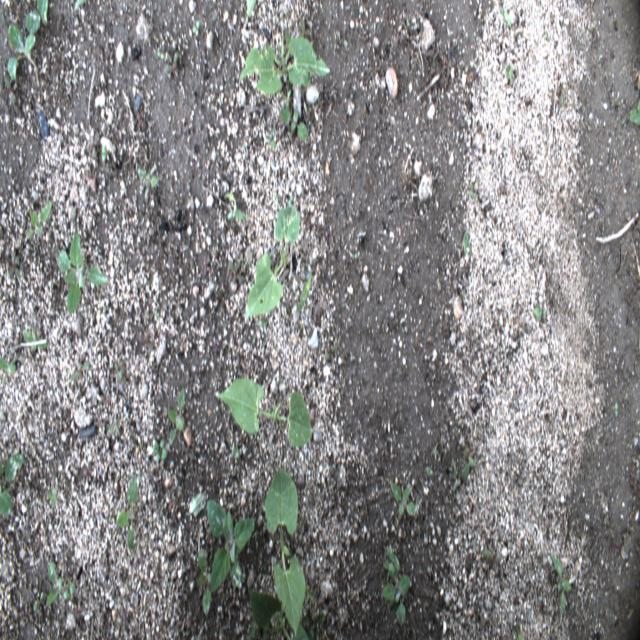crop: (265, 466, 306, 636), (215, 377, 312, 448), (244, 207, 300, 326), (238, 36, 330, 94), (248, 589, 309, 639), (297, 270, 312, 312)
weed: (206, 498, 255, 592), (57, 232, 109, 313), (7, 10, 41, 86), (380, 552, 410, 625), (116, 474, 139, 549), (0, 454, 24, 516), (198, 549, 218, 617), (26, 199, 52, 249), (552, 554, 572, 616), (167, 386, 185, 447), (390, 482, 418, 517), (280, 108, 308, 140), (137, 167, 159, 200), (225, 194, 247, 227), (46, 561, 62, 605), (302, 606, 324, 638), (0, 354, 18, 389), (22, 328, 47, 352), (3, 70, 18, 104), (163, 48, 180, 78), (70, 359, 92, 382), (461, 449, 476, 481), (86, 127, 100, 159), (8, 250, 22, 280), (228, 259, 244, 285), (152, 438, 168, 462), (628, 97, 640, 126), (383, 548, 396, 574), (462, 447, 477, 469), (484, 548, 502, 566), (324, 341, 338, 364), (36, 0, 48, 26), (304, 582, 316, 608), (298, 19, 309, 45), (182, 443, 196, 463), (604, 515, 615, 540), (451, 459, 459, 493), (46, 486, 58, 507), (282, 88, 292, 113), (63, 580, 76, 599), (501, 6, 512, 28), (533, 307, 547, 324), (243, 621, 256, 639), (119, 365, 130, 386), (34, 592, 44, 613), (554, 86, 564, 107), (268, 123, 276, 149), (468, 180, 477, 203), (113, 360, 122, 381), (286, 32, 295, 53), (514, 624, 524, 640), (247, 0, 256, 17), (504, 66, 513, 82), (101, 145, 108, 164), (73, 0, 84, 12), (231, 444, 240, 458), (457, 288, 466, 302), (272, 190, 280, 204), (385, 7, 392, 23), (156, 49, 164, 62), (193, 20, 200, 34), (425, 465, 433, 477), (258, 319, 267, 329), (614, 400, 618, 417), (301, 518, 305, 534), (288, 194, 293, 206), (354, 250, 360, 260), (252, 332, 256, 344), (543, 27, 547, 39), (432, 448, 438, 455), (154, 310, 159, 318), (406, 17, 410, 27), (243, 260, 247, 269)
